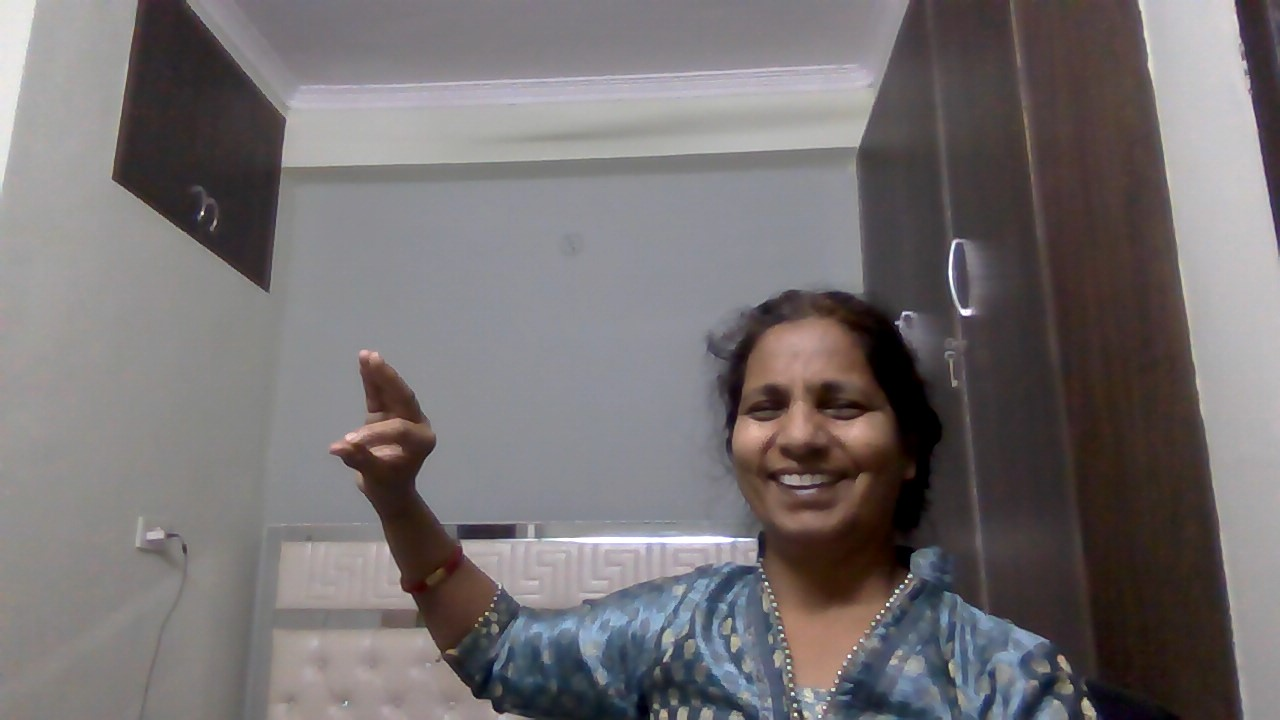Copy: (317, 334, 463, 525)
